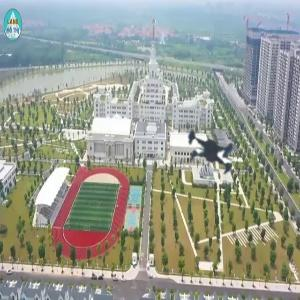drone: (158, 97, 267, 206)
